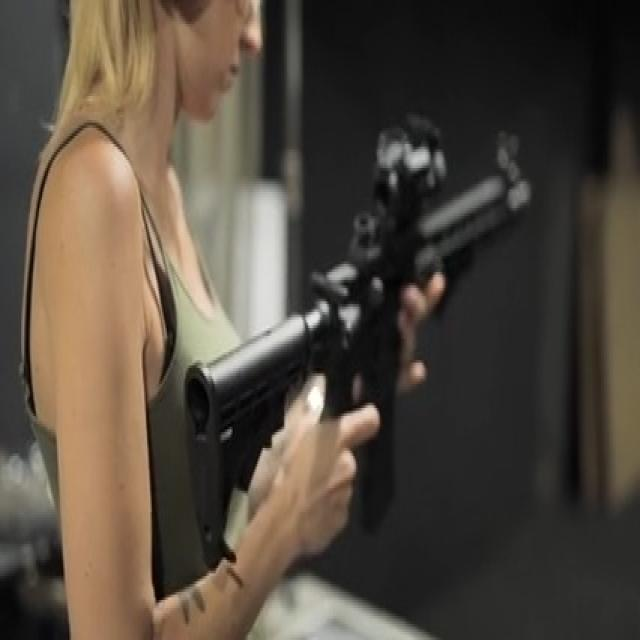Gun_Holder: (159, 115, 560, 599)
Person: (21, 0, 378, 640)
